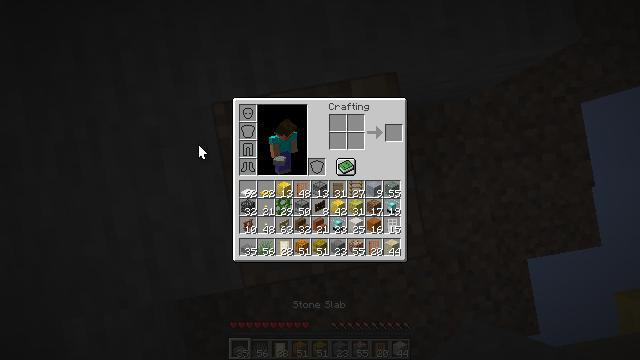cursor: (198, 144, 208, 160)
